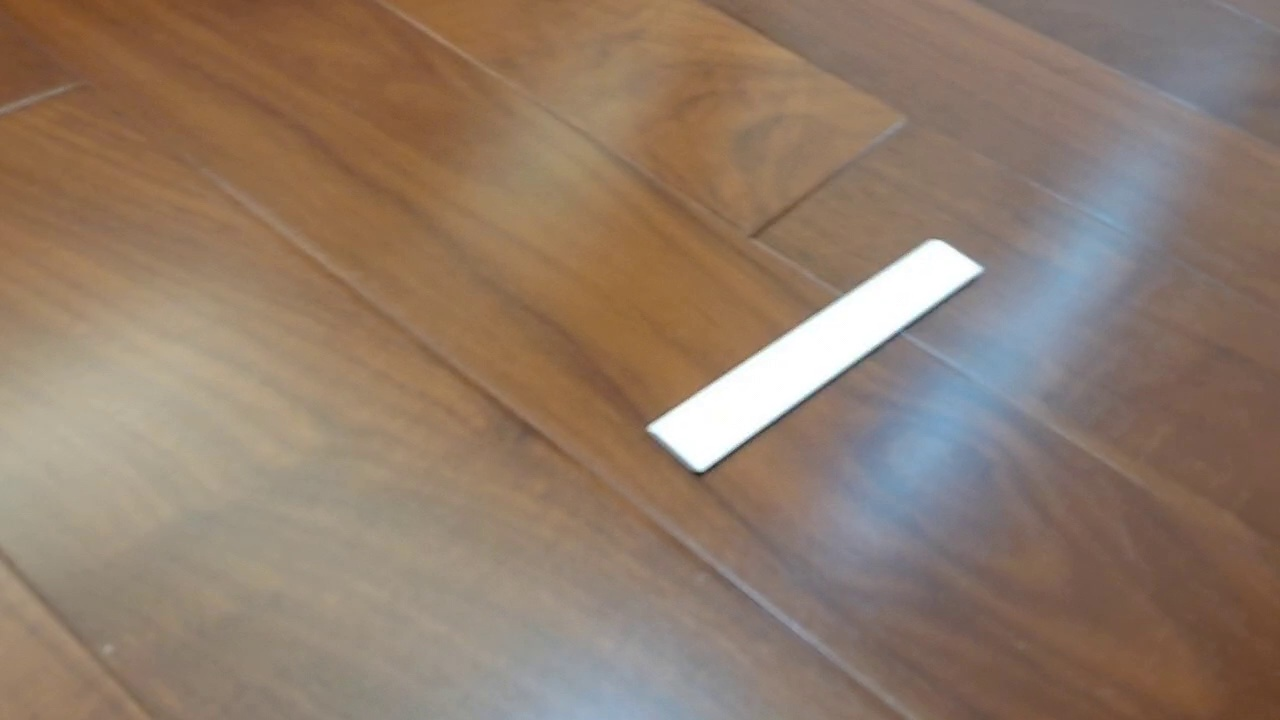ruler: (644, 235, 985, 478)
